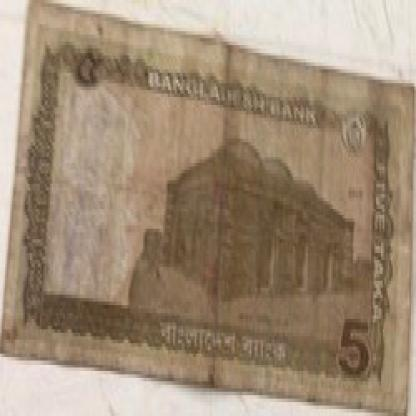Five Taka: (331, 298, 380, 381), (67, 28, 108, 100)
